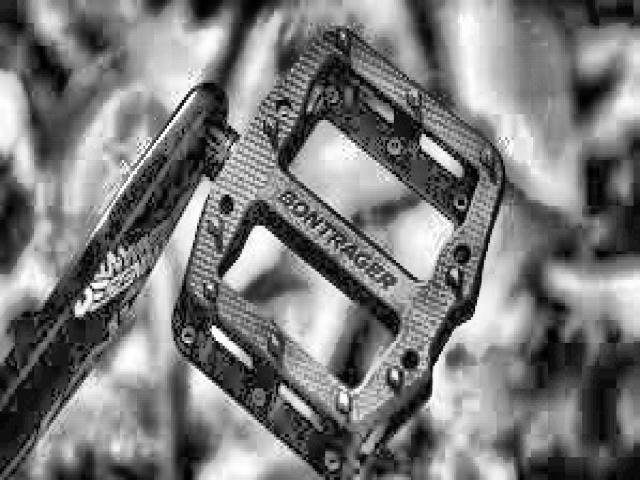pedal: (172, 20, 506, 466)
